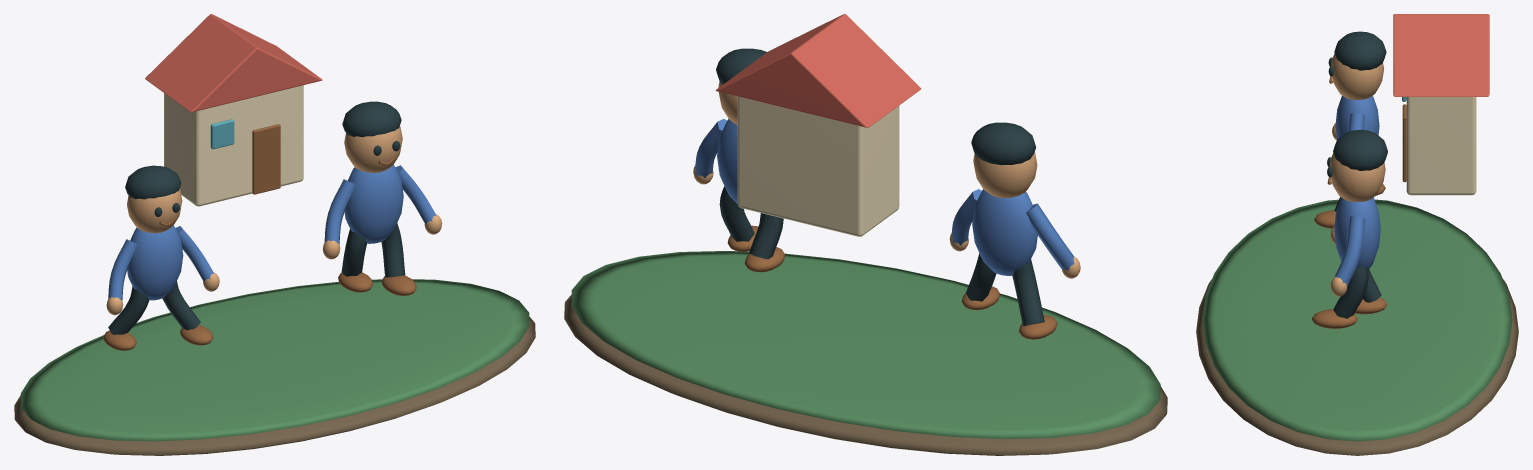
Rendered from living-with-host.glb.
The picture shows the model from 3 angles, left to right: view 1: azimuth 30°, elevation 25°; view 2: azimuth 150°, elevation 25°; view 3: azimuth 270°, elevation 25°; orthographic projection. The views are drawn at different scales.
Parts seen in each view (by area): view 1: living-with-host_surface_01, living-with-host_surface_06, living-with-host_surface_05, living-with-host_surface_07, living-with-host_surface_00, living-with-host_surface_03, living-with-host_surface_02, living-with-host_surface_04, living-with-host_surface_08; view 2: living-with-host_surface_01, living-with-host_surface_06, living-with-host_surface_07, living-with-host_surface_00, living-with-host_surface_05, living-with-host_surface_03, living-with-host_surface_02, living-with-host_surface_04; view 3: living-with-host_surface_01, living-with-host_surface_07, living-with-host_surface_06, living-with-host_surface_00, living-with-host_surface_03, living-with-host_surface_05, living-with-host_surface_02, living-with-host_surface_04.
Part boxes in pixels (x1=…): living-with-host_surface_01: x1=20, y1=279, x2=529, y2=441; living-with-host_surface_06: x1=164, y1=85, x2=303, y2=206; living-with-host_surface_05: x1=108, y1=165, x2=436, y2=300; living-with-host_surface_07: x1=145, y1=14, x2=322, y2=112; living-with-host_surface_00: x1=14, y1=317, x2=535, y2=455; living-with-host_surface_03: x1=108, y1=101, x2=405, y2=334; living-with-host_surface_02: x1=106, y1=126, x2=442, y2=315; living-with-host_surface_04: x1=103, y1=124, x2=416, y2=350; living-with-host_surface_08: x1=210, y1=119, x2=234, y2=149; living-with-host_surface_01: x1=571, y1=251, x2=1160, y2=439; living-with-host_surface_06: x1=737, y1=96, x2=899, y2=236; living-with-host_surface_07: x1=715, y1=14, x2=921, y2=127; living-with-host_surface_00: x1=564, y1=294, x2=1167, y2=455; living-with-host_surface_05: x1=695, y1=119, x2=1074, y2=275; living-with-host_surface_03: x1=716, y1=48, x2=1044, y2=325; living-with-host_surface_02: x1=693, y1=81, x2=1080, y2=278; living-with-host_surface_04: x1=727, y1=225, x2=1057, y2=339; living-with-host_surface_01: x1=1202, y1=199, x2=1512, y2=441; living-with-host_surface_07: x1=1393, y1=14, x2=1489, y2=96; living-with-host_surface_06: x1=1406, y1=97, x2=1476, y2=195; living-with-host_surface_00: x1=1196, y1=278, x2=1518, y2=455; living-with-host_surface_03: x1=1327, y1=31, x2=1387, y2=318; living-with-host_surface_05: x1=1334, y1=95, x2=1380, y2=286; living-with-host_surface_02: x1=1330, y1=54, x2=1385, y2=296; living-with-host_surface_04: x1=1311, y1=76, x2=1406, y2=328.
Bounding box in the file's own units: 4.56 × 2.84 × 2.5.
